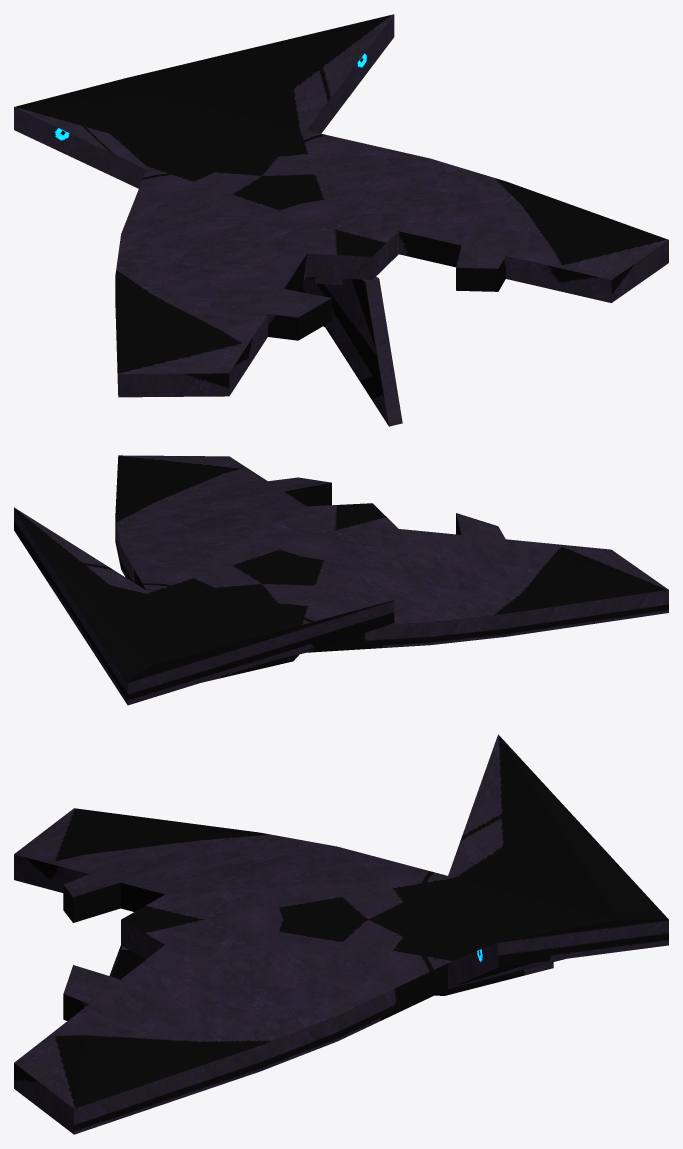
File: Ting.fbx
3 views of the same model, one above another, from view 1: azimuth 30°, elevation 25°; view 2: azimuth 150°, elevation 25°; view 3: azimuth 270°, elevation 25° (orthographic). The views are drawn at different scales.
Visible parts, largest first — view 1: Ting; view 2: Ting; view 3: Ting.
Part boxes in pixels (x1,y1,x2,y2): Ting: [14, 14, 668, 426]; Ting: [14, 455, 668, 705]; Ting: [14, 734, 668, 1134].
Size of the model in its own units: 120 by 46.66 by 110.
1 material, 1 textured.
